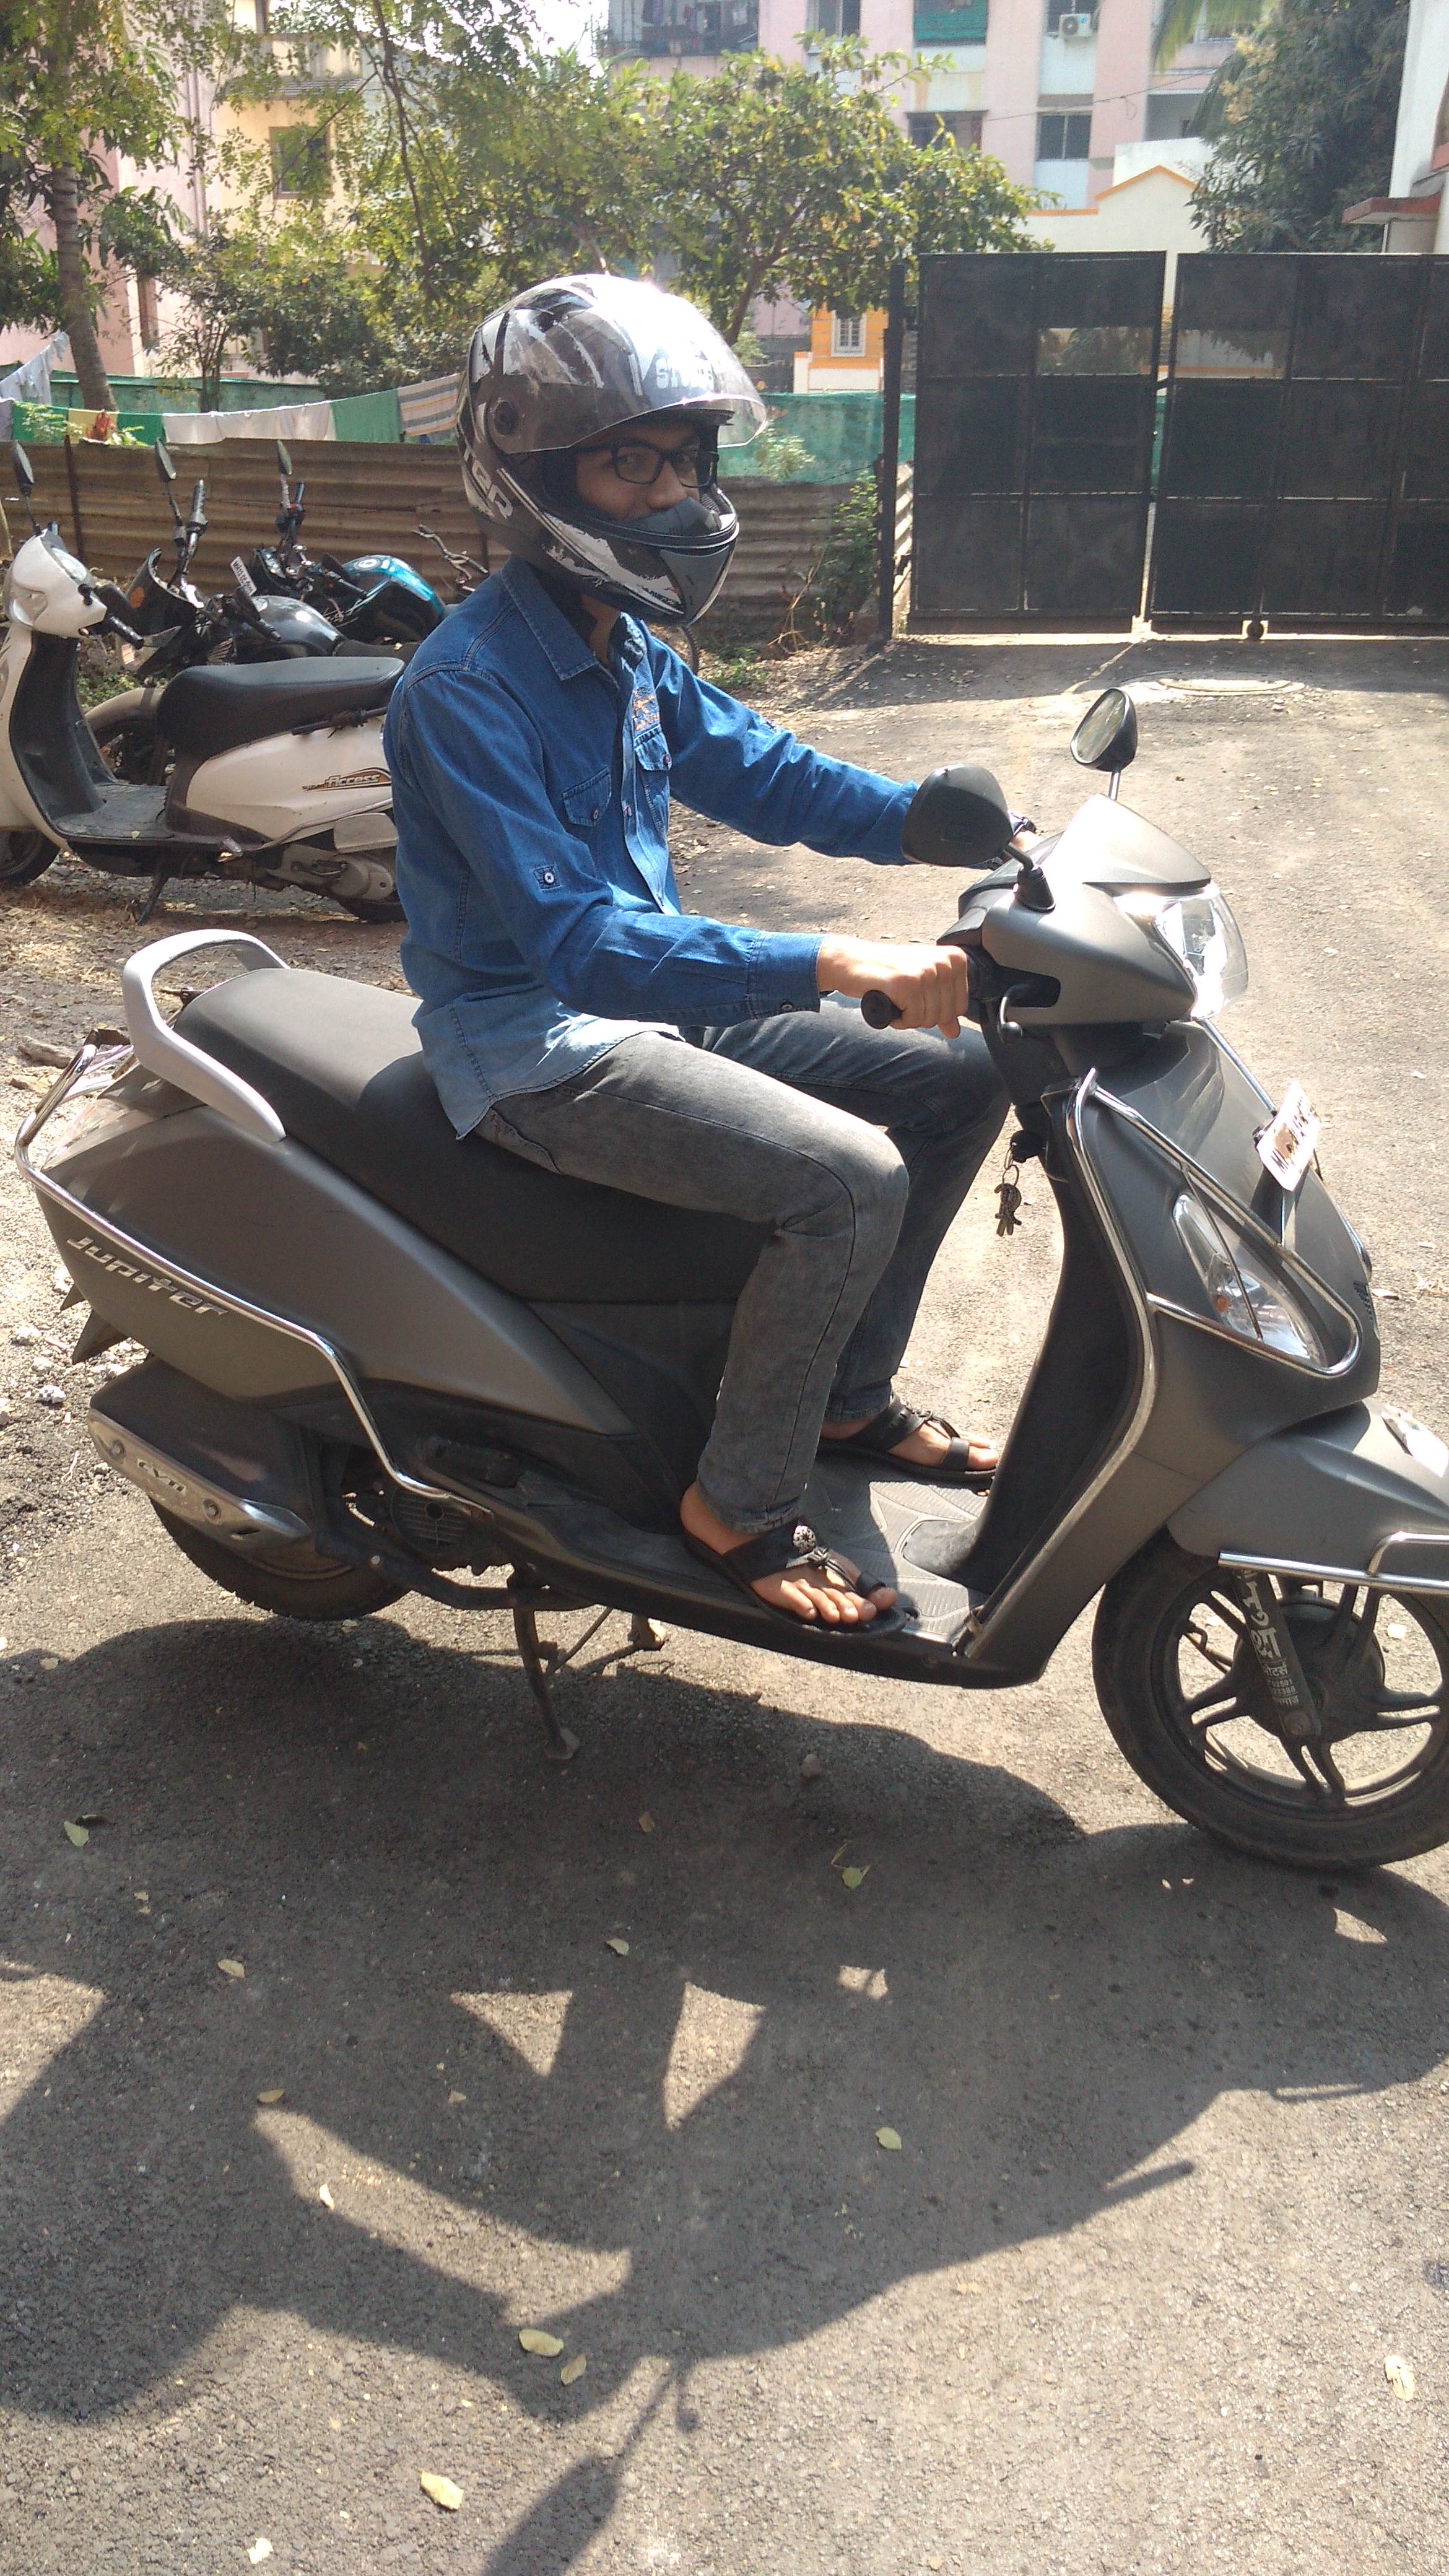helmet: (340, 219, 1122, 1734)
